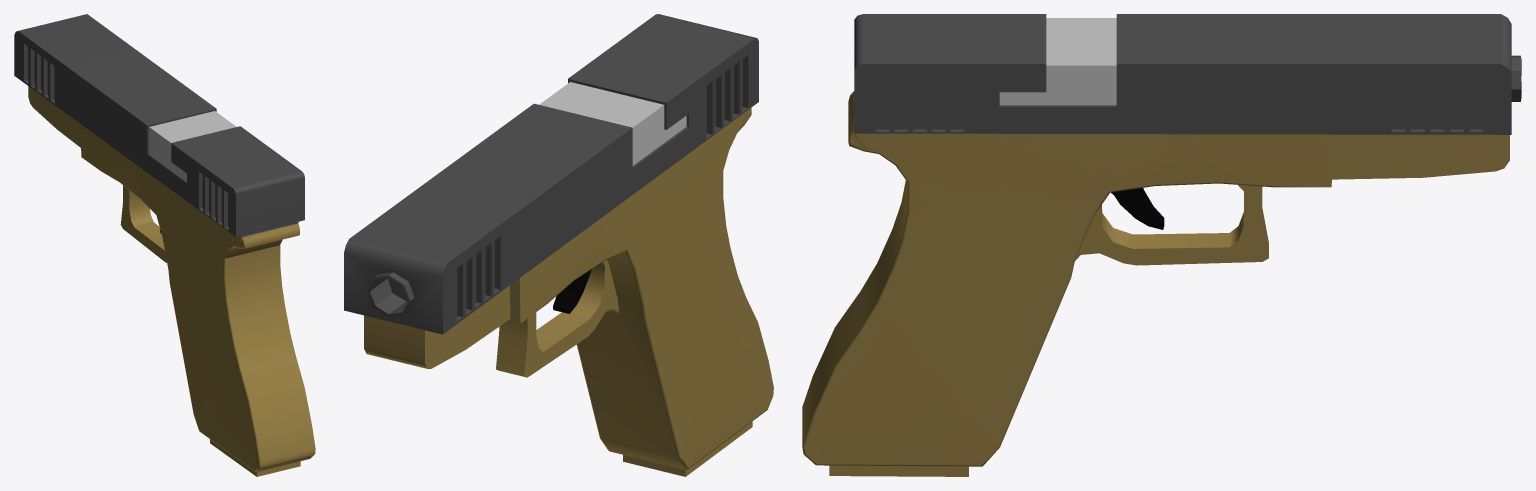
The model's file is Gun(Glock).fbx.
3 renders of one model, left to right at view 1: azimuth 30°, elevation 25°; view 2: azimuth 150°, elevation 25°; view 3: azimuth 270°, elevation 25°, orthographic. The views are drawn at different scales.
Parts seen in each view (by area): view 1: Gun; view 2: Gun; view 3: Gun.
Boxes of the visible parts, bbox=[...] form: Gun: bbox=[14, 14, 315, 476]; Gun: bbox=[344, 14, 773, 476]; Gun: bbox=[802, 14, 1521, 476].
Size of the model in its own units: 13.18 by 51.72 by 79.92.
